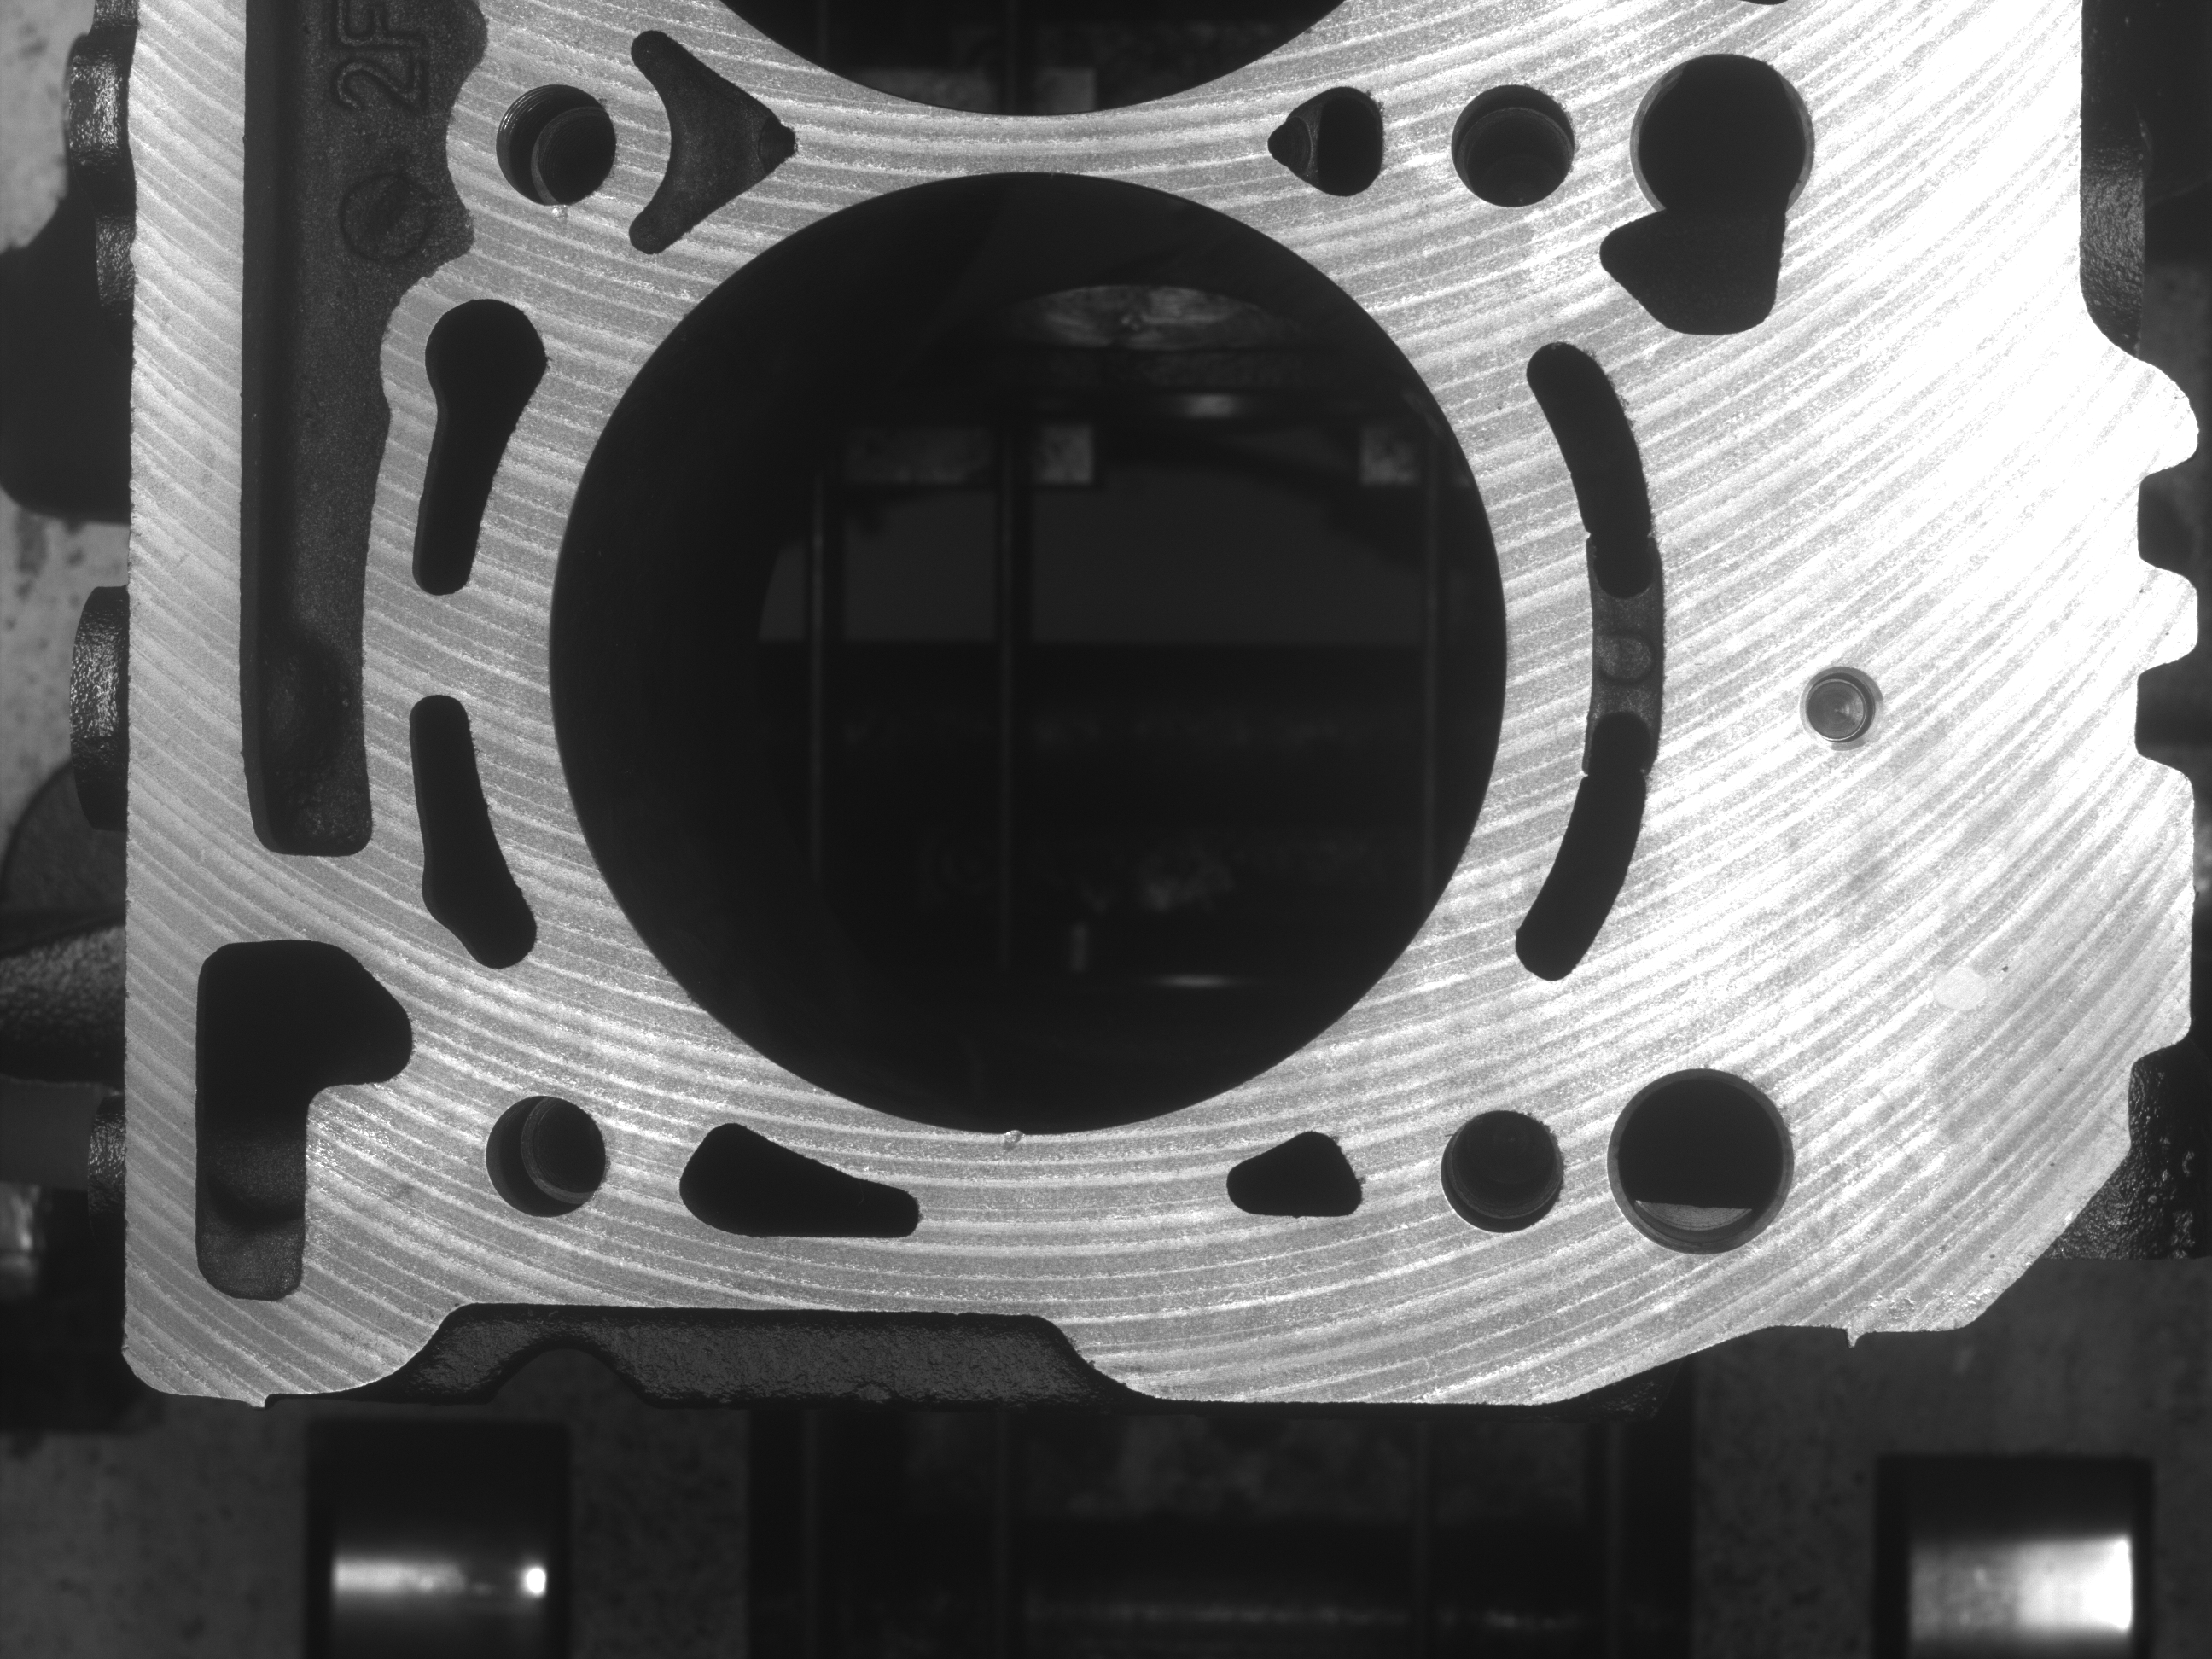sandhole: (982, 1122, 1040, 1169), (535, 206, 585, 239)
